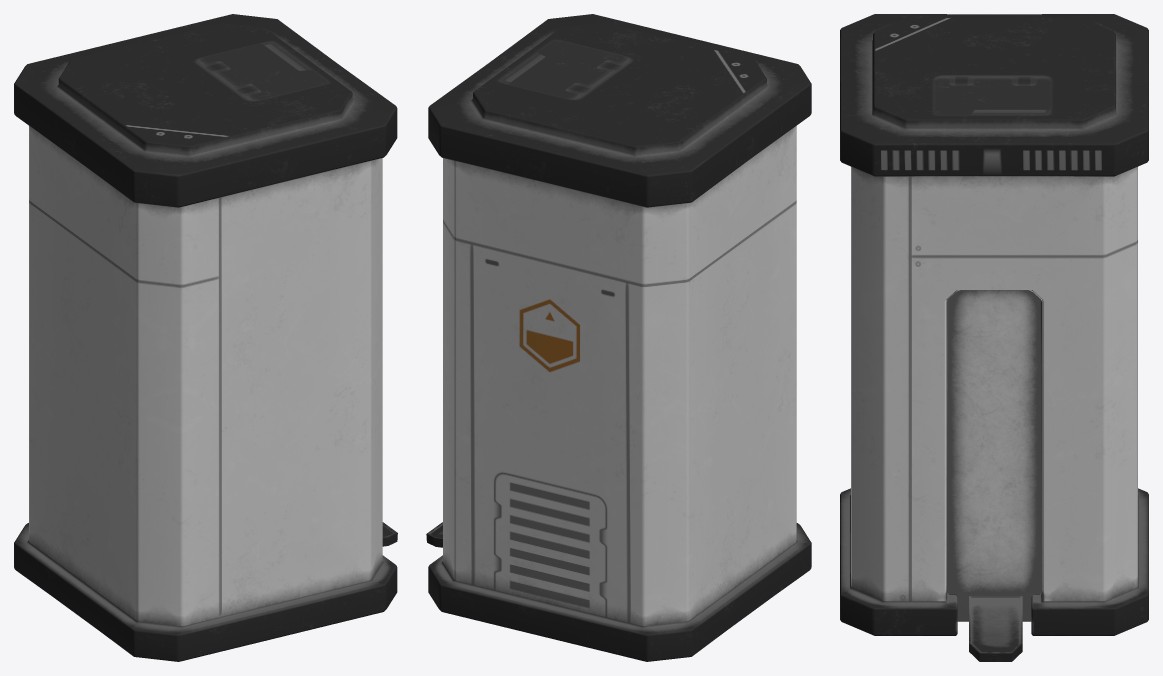
Rendered from trash.obj.
The picture shows the model from 3 angles, left to right: view 1: azimuth 30°, elevation 25°; view 2: azimuth 150°, elevation 25°; view 3: azimuth 270°, elevation 25°; orthographic projection.
Visible parts, largest first — view 1: POUBELLE001; view 2: POUBELLE001; view 3: POUBELLE001.
Boxes of the visible parts, x1,y1,x2,y2 form: POUBELLE001: (14,14,397,661); POUBELLE001: (426,14,811,661); POUBELLE001: (840,14,1148,661).
Size of the model in its own units: 0.6473 by 0.9699 by 0.54.
Materials: 1 (1 with a texture image).
